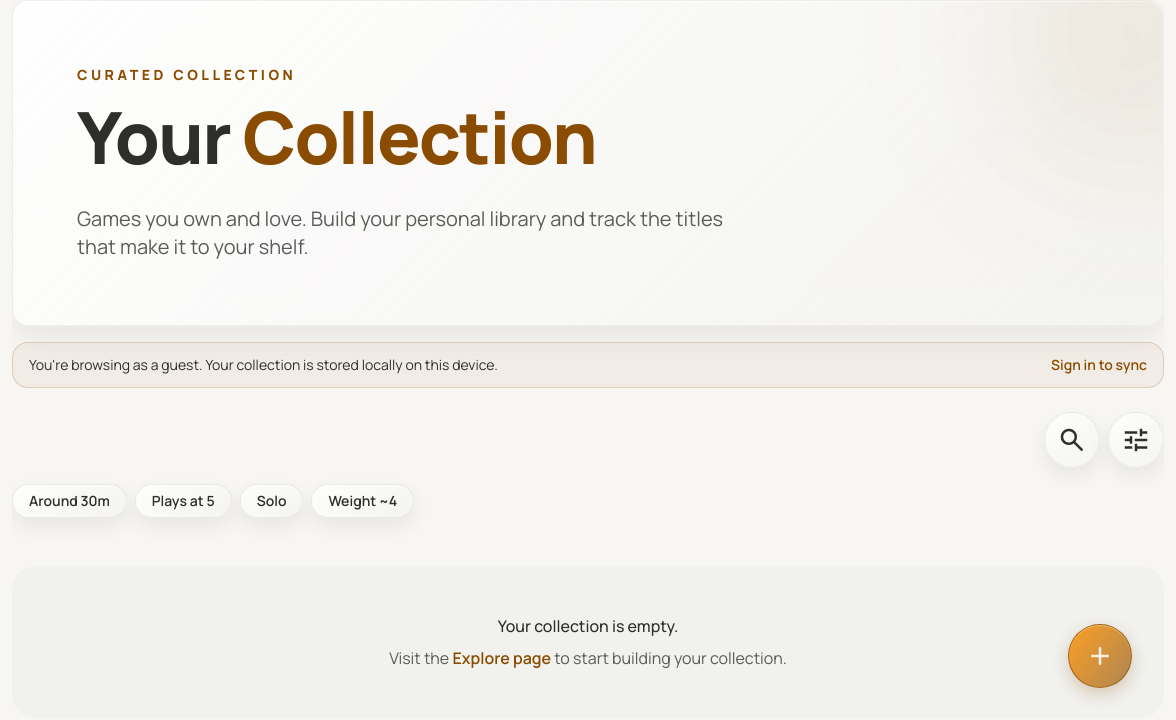
Test: CollectionPage › routes guest sign-in prompts through sign-in overlay state
Click the link "Sign in to sync": (1099, 365) [1051, 355, 1147, 375]
(page scrolled)
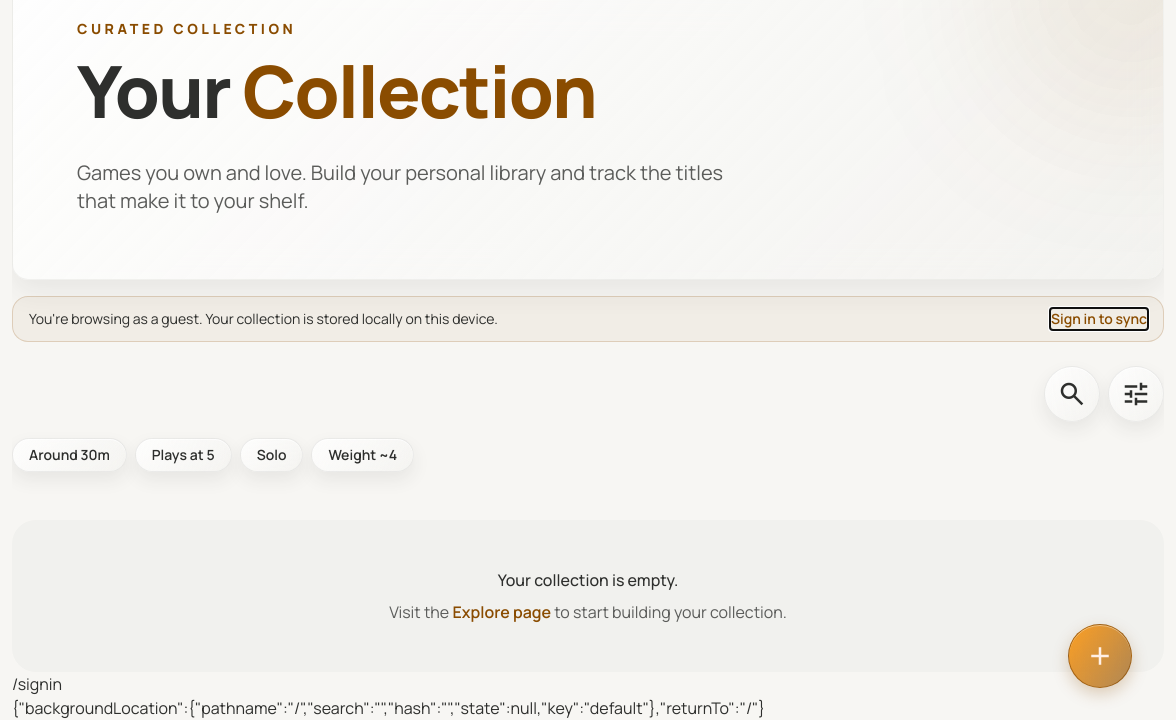
expect the text with test id "location-pathname" reads "/signin": met, box [12, 673, 62, 695]
expect the text with test id "location-state" shows "\"pathname\":\"/\"": met, box [12, 697, 765, 719]
